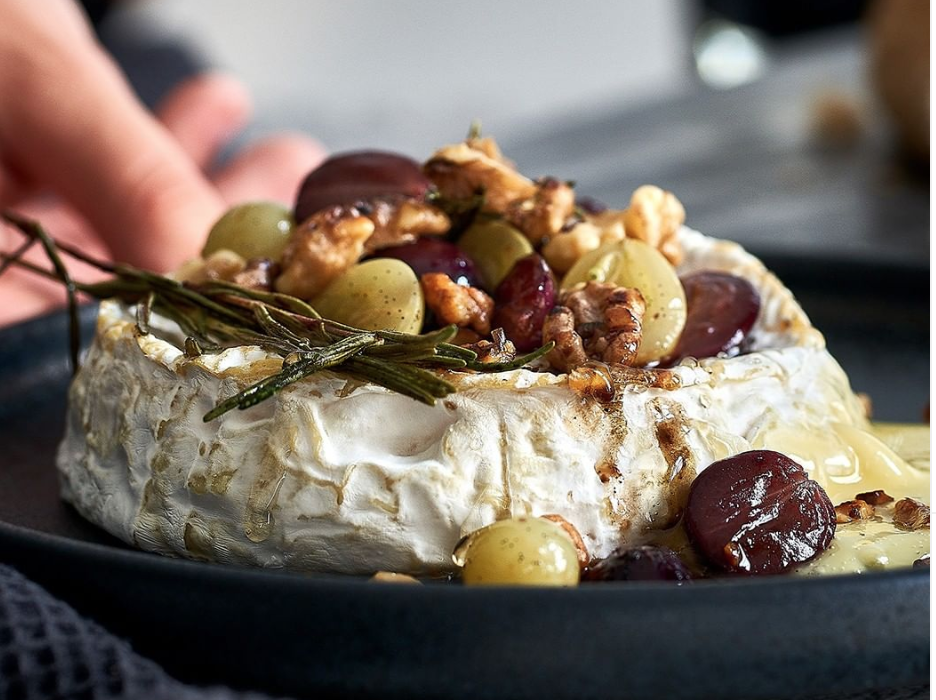camembert: (51, 287, 879, 580)
